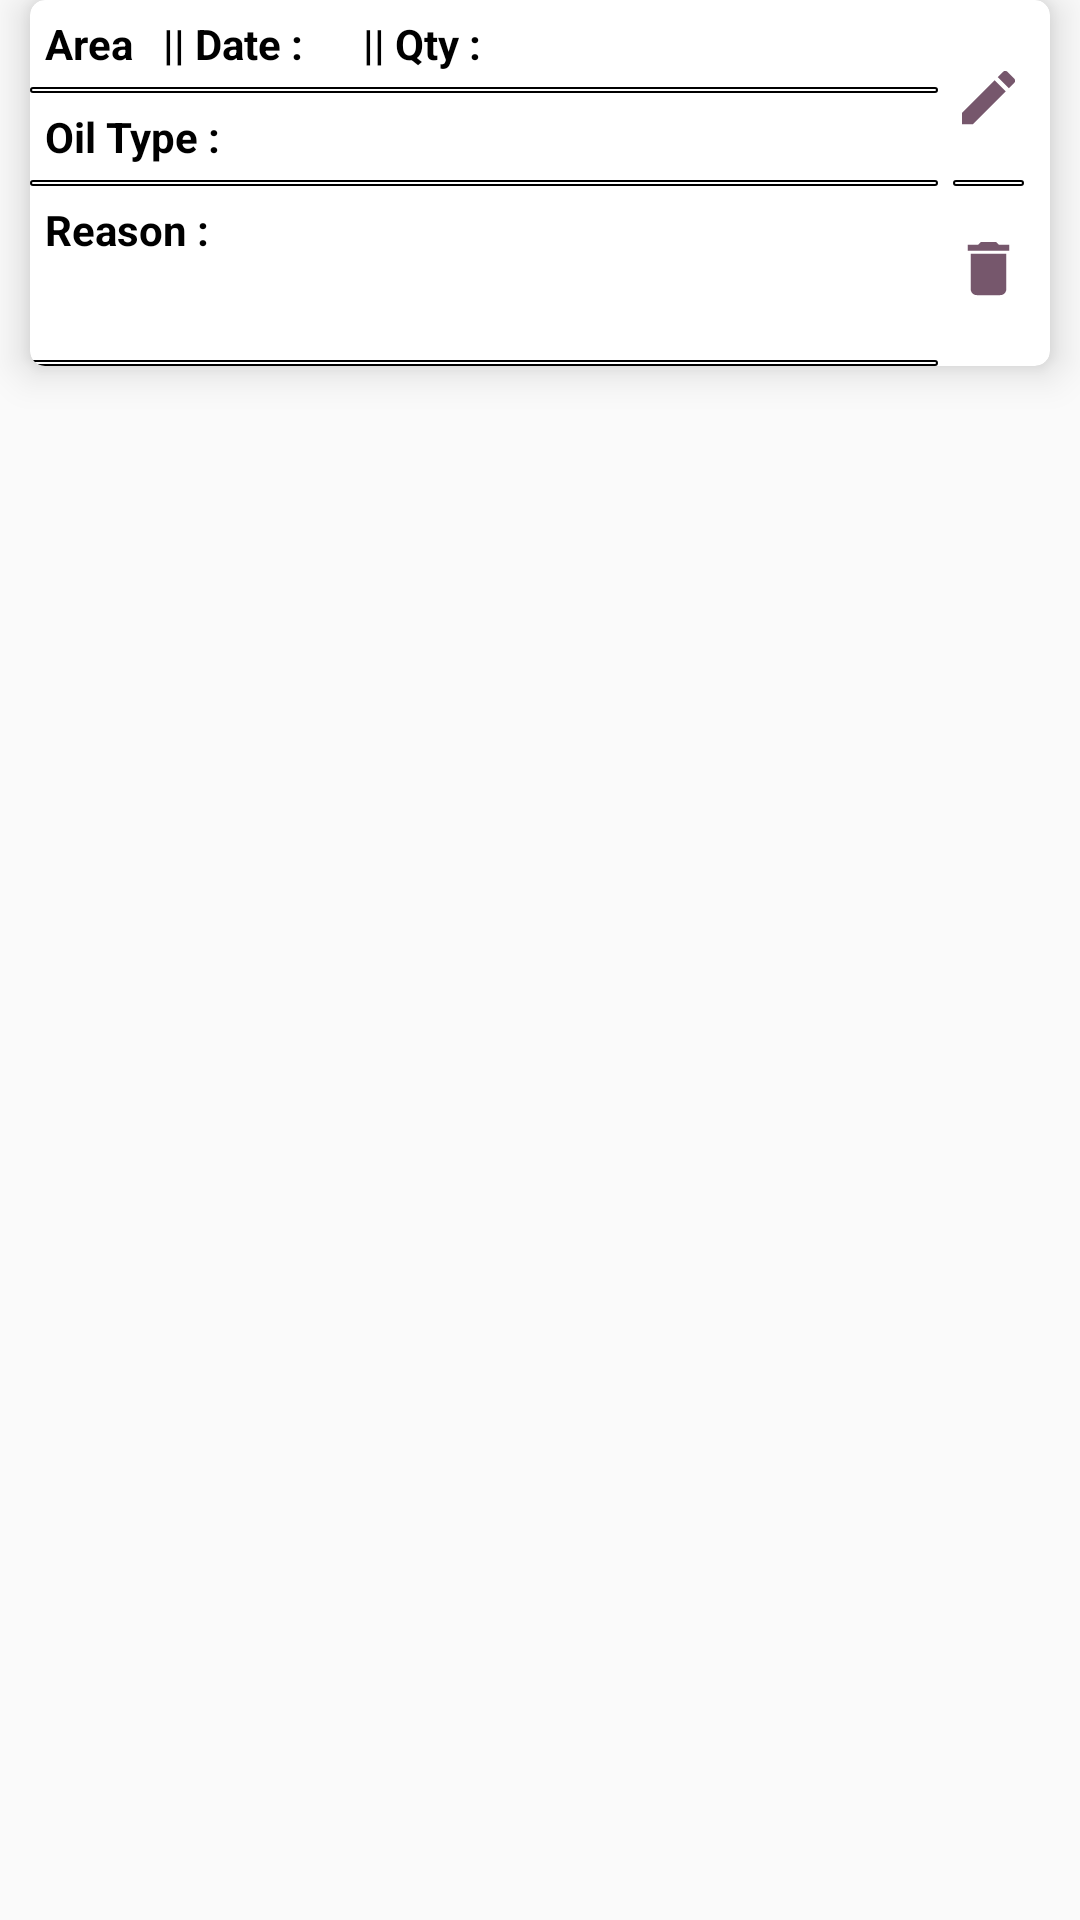

Point at icon controls on the screen. Image size 1080×1920, points as [x,y].
delete: [988,269]
edit: [988,98]
